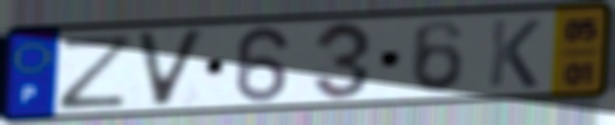3: (311, 19, 374, 104)
6: (233, 24, 293, 106), (409, 18, 467, 95)
K: (484, 17, 544, 90)
V: (132, 26, 211, 111)
Z: (56, 31, 139, 113)
